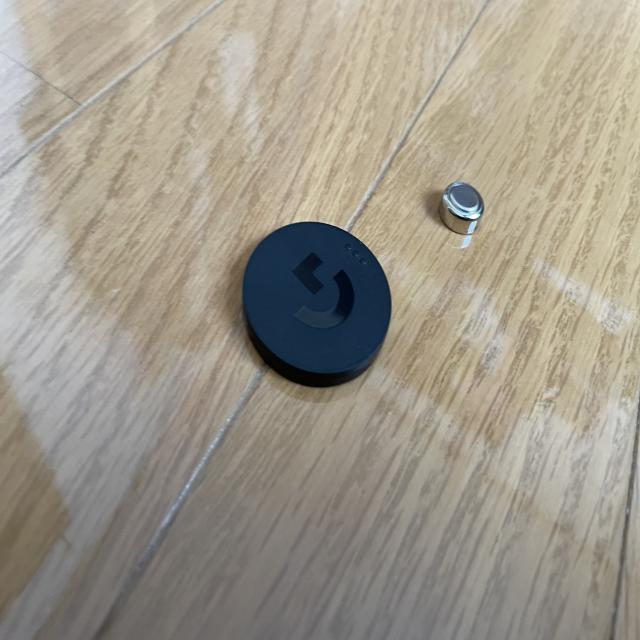COIN: (440, 181, 484, 236)
